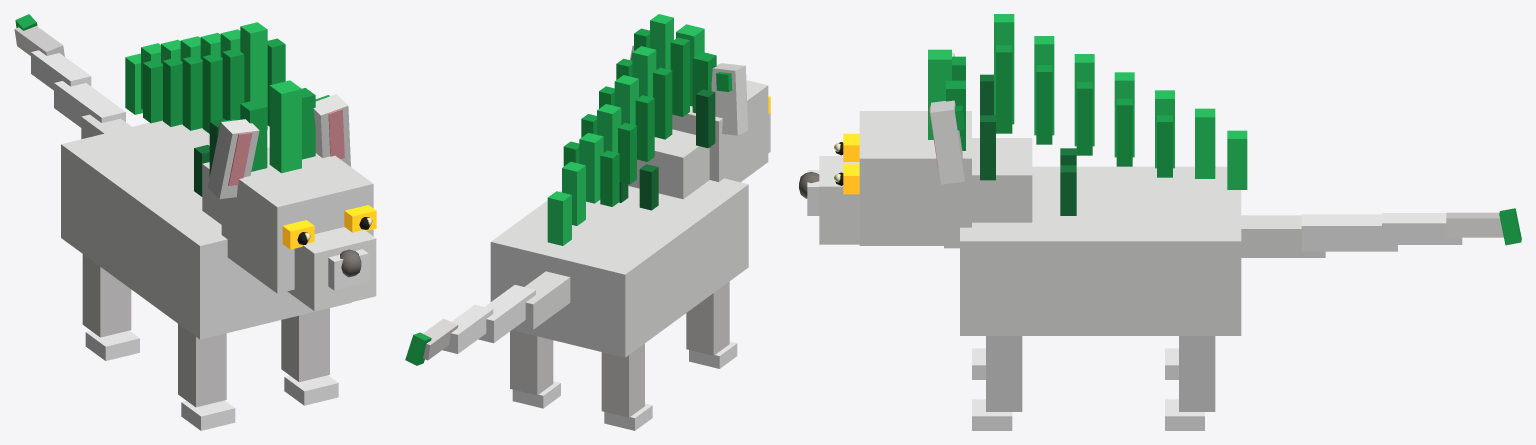
File: Calgoche.glb
3 views of the same model, side by side, from view 1: azimuth 30°, elevation 25°; view 2: azimuth 150°, elevation 25°; view 3: azimuth 270°, elevation 25° (orthographic). The views are drawn at different scales.
Parts seen in each view (by area): view 1: CalgocheBody; view 2: CalgocheBody; view 3: CalgocheBody.
Boxes of the visible parts, <box> form: CalgocheBody: <box>14,14,376,430</box>; CalgocheBody: <box>405,14,770,430</box>; CalgocheBody: <box>799,14,1521,430</box>.
Bounding box in the file's own units: 0.44 × 1.04 × 1.8.
